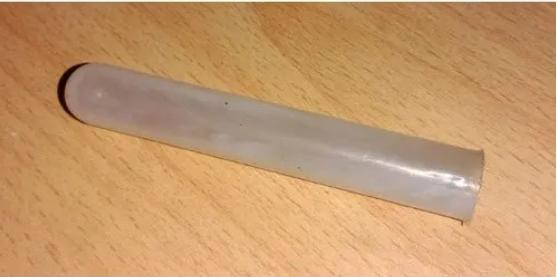Test tube: (50, 60, 494, 237)
